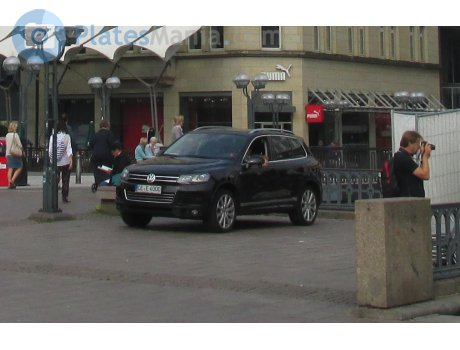License Plates: (136, 183, 160, 190)
